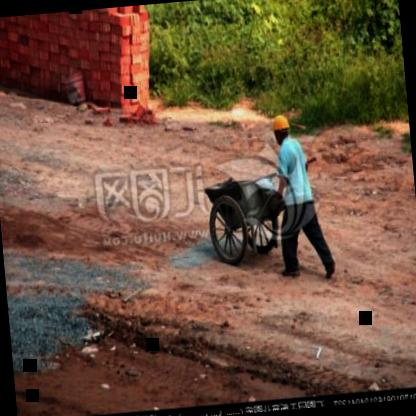helmet: (268, 110, 296, 150)
